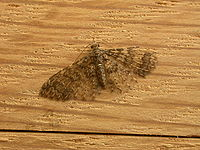Alucitidae: (39, 39, 160, 107)
moth: (37, 37, 158, 105)
